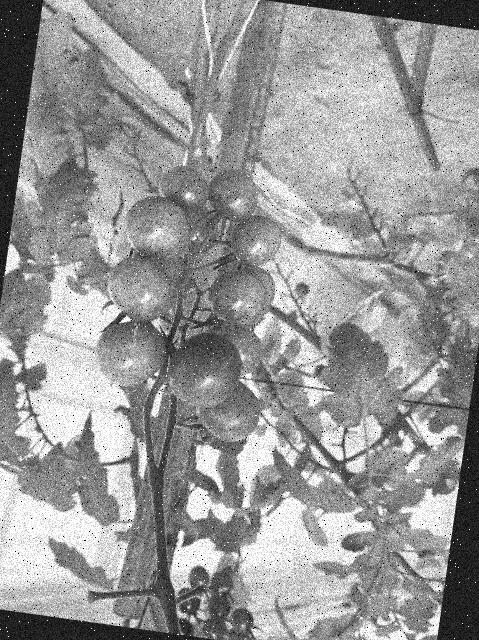l_green: (89, 315, 171, 393), (101, 252, 177, 326), (191, 373, 264, 446), (120, 193, 195, 263), (202, 265, 271, 330), (203, 166, 262, 226), (207, 322, 265, 381), (226, 211, 283, 271), (139, 250, 194, 307), (155, 162, 211, 215), (179, 203, 222, 258), (228, 264, 278, 309)
l_half_ripened: (163, 326, 246, 414)
